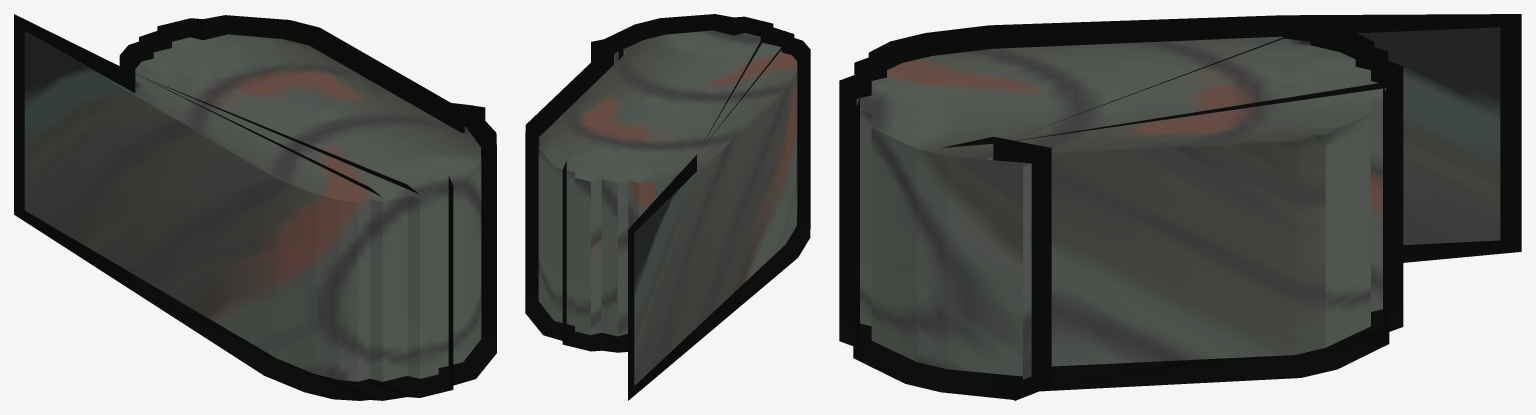
Rendered from Building_AncientBarrel_Things_Building_Ruins_AncientBarrel_AncientBarrelC.glb.
3 renders of one model, left to right at view 1: azimuth 30°, elevation 25°; view 2: azimuth 150°, elevation 25°; view 3: azimuth 270°, elevation 25°, orthographic. The views are drawn at different scales.
Visible parts, largest first — view 1: Body, Outline; view 2: Body, Outline; view 3: Body, Outline.
Boxes of the visible parts, x1,y1,x2,y2 form: Body: (24,31,481,381); Outline: (14,14,496,400); Body: (538,30,797,385); Outline: (525,14,810,400); Body: (856,27,1500,379); Outline: (839,14,1521,400).
Bounding box in the file's own units: 0.6499 × 0.527 × 1.26.
2 materials, 1 textured.
